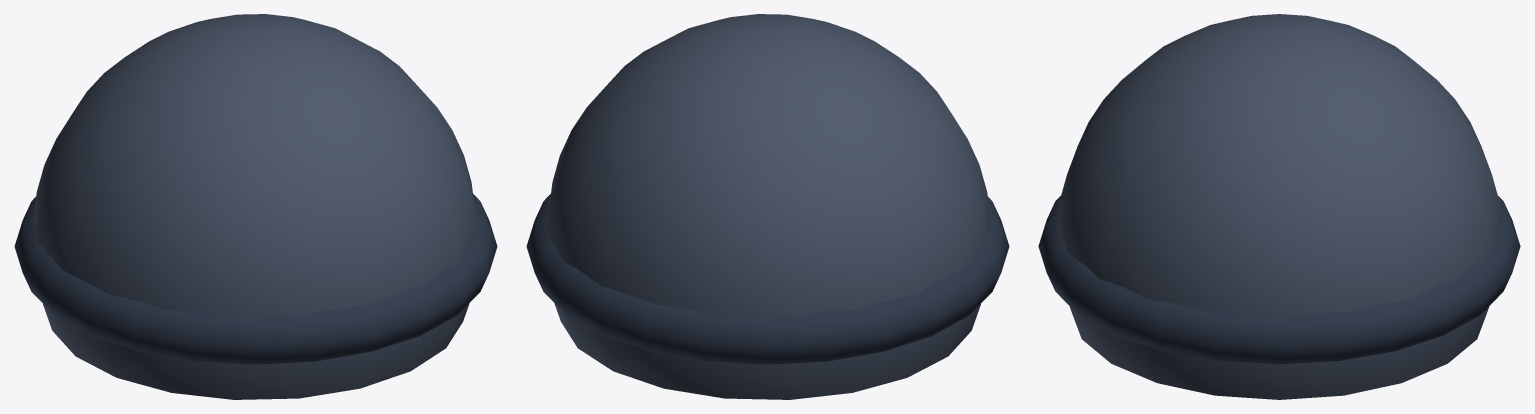
Rendered from 105-pilot-helm.glb.
3 views of the same model, side by side, from view 1: azimuth 30°, elevation 25°; view 2: azimuth 150°, elevation 25°; view 3: azimuth 270°, elevation 25° (orthographic).
Size of the model in its own units: 0.248 by 0.1573 by 0.248.
